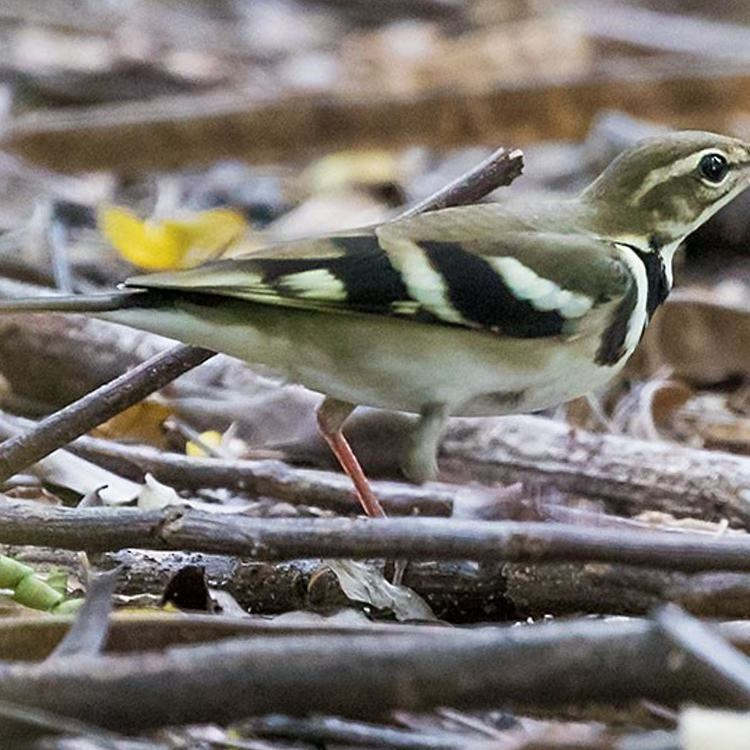wagtail: (72, 133, 749, 496)
